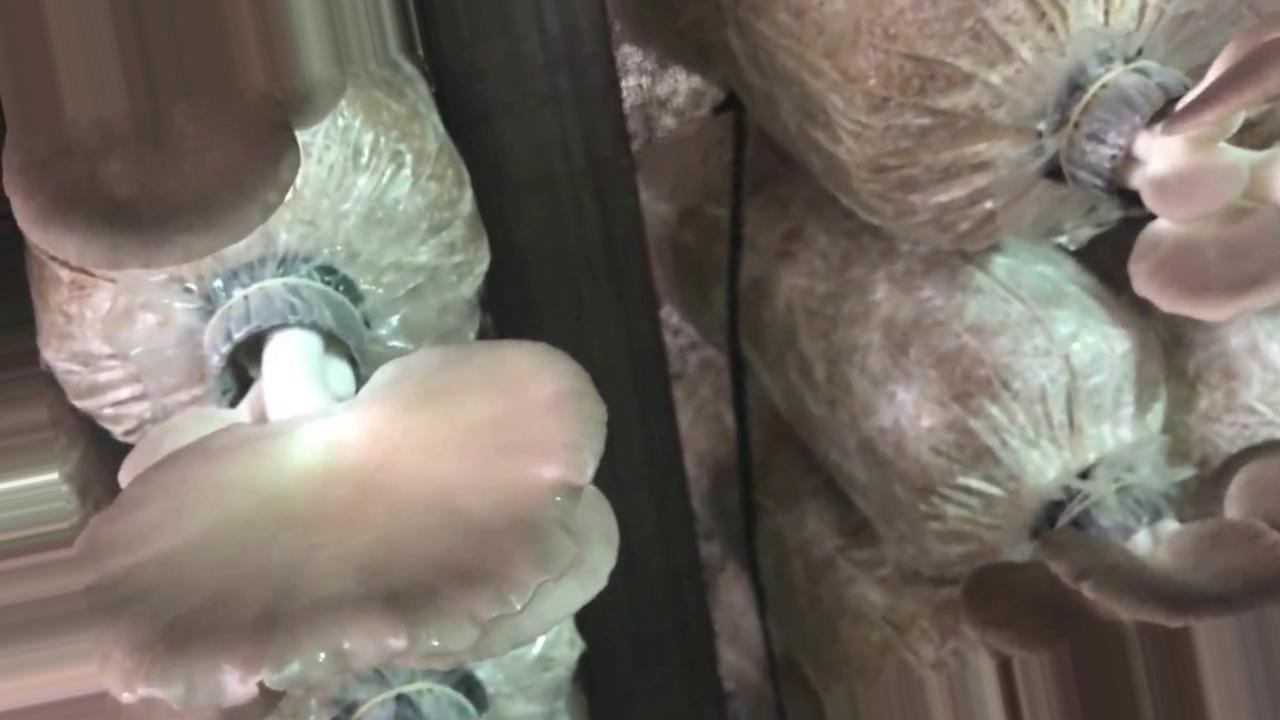nam: (81, 264, 620, 707), (1, 1, 349, 270), (959, 421, 1280, 659), (1078, 23, 1280, 322)
